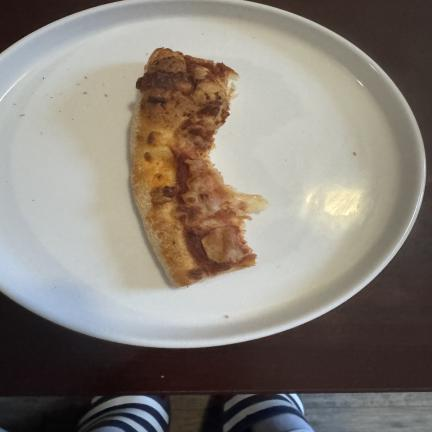pizza: (131, 49, 267, 286)
plate: (0, 0, 425, 347)
